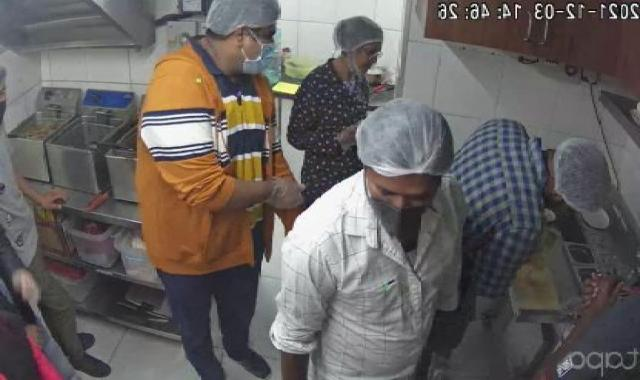hairnet: (354, 95, 464, 192), (549, 130, 628, 233), (329, 13, 399, 72), (200, 0, 290, 41)
